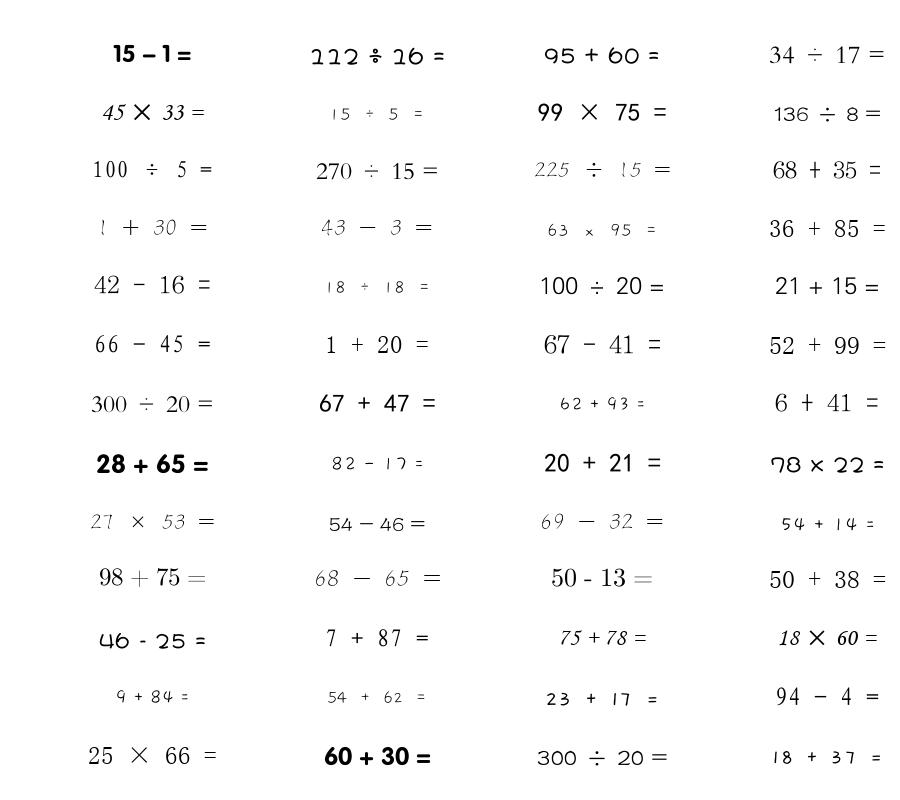MQ: (309, 47, 445, 65), (544, 453, 661, 473), (538, 103, 667, 121), (539, 277, 665, 295), (96, 454, 209, 474), (94, 275, 211, 294), (544, 335, 661, 354), (88, 747, 217, 764), (534, 162, 671, 178), (92, 160, 212, 178), (99, 568, 206, 588), (324, 746, 431, 766), (94, 335, 211, 353), (319, 394, 436, 412), (537, 750, 668, 766), (316, 163, 439, 180), (91, 396, 214, 413), (769, 46, 885, 64), (314, 570, 441, 586), (90, 514, 215, 530), (769, 220, 886, 237), (769, 337, 886, 354), (769, 571, 886, 588), (540, 513, 664, 529), (775, 393, 879, 412), (775, 687, 879, 706), (544, 47, 660, 64), (770, 456, 885, 473), (773, 161, 881, 179), (551, 568, 653, 587), (321, 219, 433, 236), (775, 277, 880, 295), (97, 219, 208, 236), (325, 629, 429, 647), (99, 632, 206, 649), (325, 336, 429, 353), (101, 104, 204, 121), (774, 107, 881, 122), (777, 630, 877, 646), (545, 692, 659, 706), (547, 223, 658, 237), (113, 44, 191, 63), (772, 751, 883, 764), (329, 517, 425, 532), (780, 517, 875, 532), (331, 456, 424, 471), (324, 281, 431, 294), (558, 630, 646, 645), (327, 691, 427, 704), (329, 108, 425, 121), (559, 397, 646, 411), (115, 690, 190, 704)
